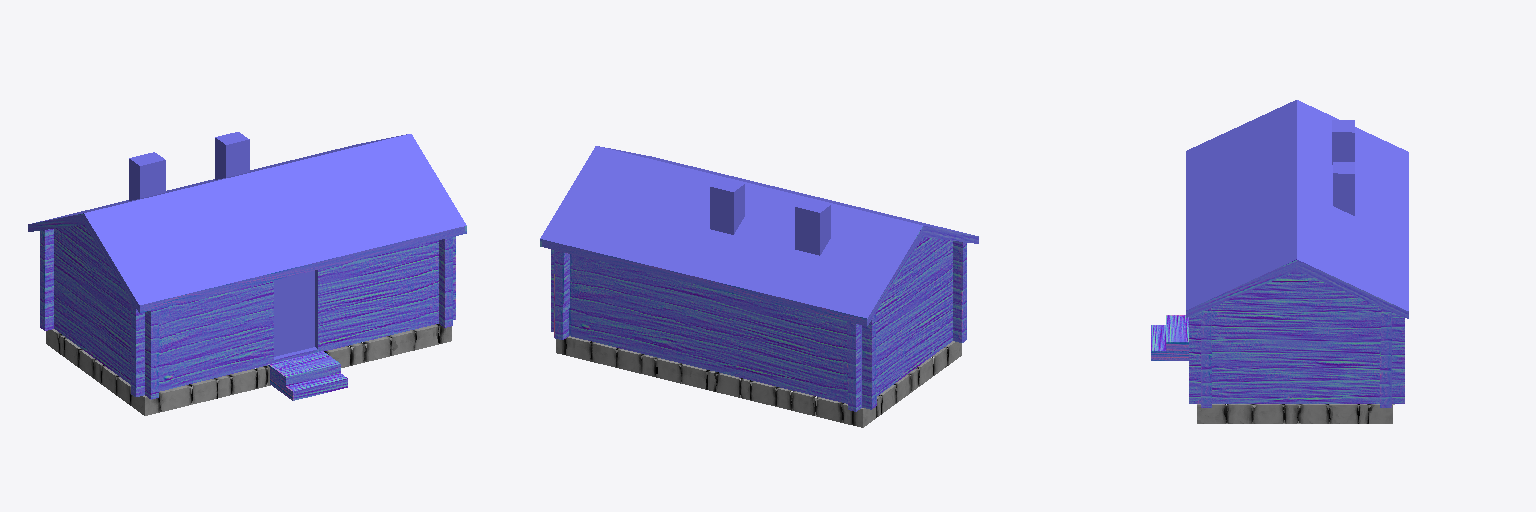
The picture shows the model from 3 angles: view 1: azimuth 30°, elevation 25°; view 2: azimuth 150°, elevation 25°; view 3: azimuth 270°, elevation 25°; orthographic projection.
Parts seen in each view (by area): view 1: House_LowPoly, BaseLowPoly_LowPoly.001; view 2: House_LowPoly, BaseLowPoly_LowPoly.001; view 3: House_LowPoly, BaseLowPoly_LowPoly.001.
Boxes of the visible parts, box(x1,y1,x2,y2) form: House_LowPoly: box(28, 132, 466, 400); BaseLowPoly_LowPoly.001: box(46, 324, 451, 415); House_LowPoly: box(540, 146, 978, 411); BaseLowPoly_LowPoly.001: box(556, 336, 961, 427); House_LowPoly: box(1151, 100, 1408, 407); BaseLowPoly_LowPoly.001: box(1197, 404, 1394, 423).
Bounding box in the file's own units: 8.48 × 4.59 × 5.77.
Materials: 2 (2 with a texture image).